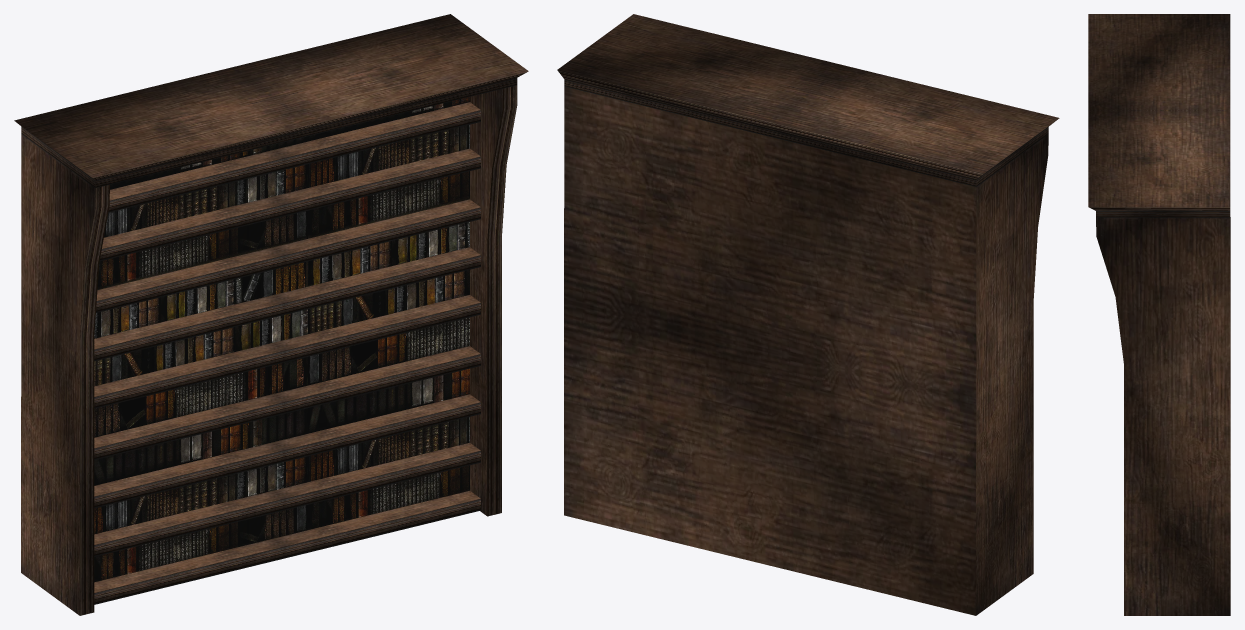
File: GS_CITY_BOOKSHELF_ORANGE_01_KOZA.glb
3 renders of one model, left to right at view 1: azimuth 30°, elevation 25°; view 2: azimuth 150°, elevation 25°; view 3: azimuth 270°, elevation 25°, orthographic. The views are drawn at different scales.
Visible parts, largest first — view 1: Mesh; view 2: Mesh; view 3: Mesh.
Boxes of the visible parts, box(x1,y1,x2,y2) form: Mesh: box(14, 14, 528, 615); Mesh: box(557, 14, 1059, 615); Mesh: box(1088, 14, 1230, 615).
Bounding box in the file's own units: 3 × 2.98 × 0.9349.
Materials: 4 (4 with a texture image).
